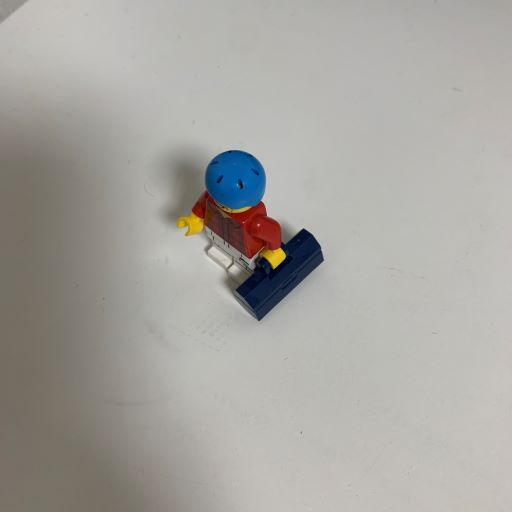human: (172, 141, 331, 320)
